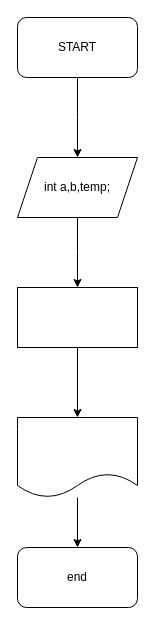
This 155x625 diagram has some shape labels left out. Here are the shapes that lost their labels. From the top down, the box of each, then its label:
(16, 286, 138, 348): temp=a; a=b; b=temp;
(16, 416, 138, 498): a, b
